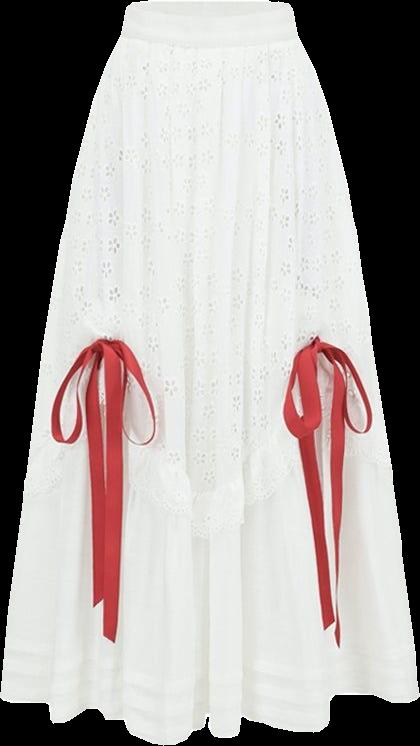Hemline: (0, 690, 419, 745)
Waistline: (116, 28, 300, 53), (123, 3, 290, 20)
